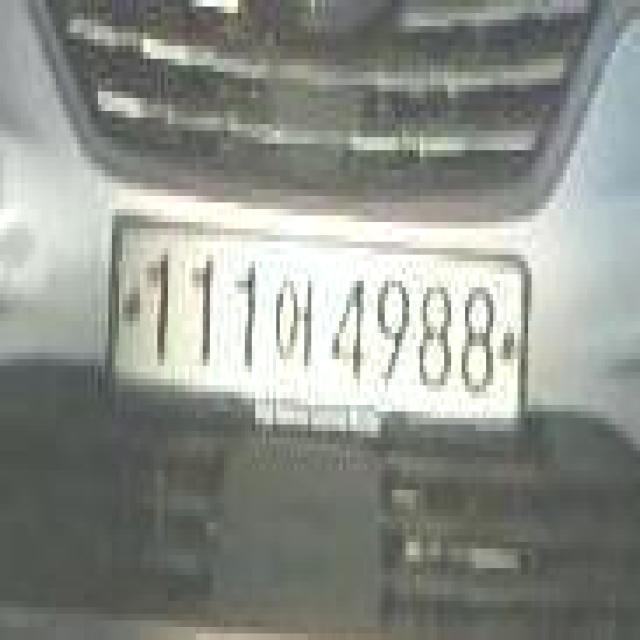illegal_plate: (101, 198, 534, 471)
